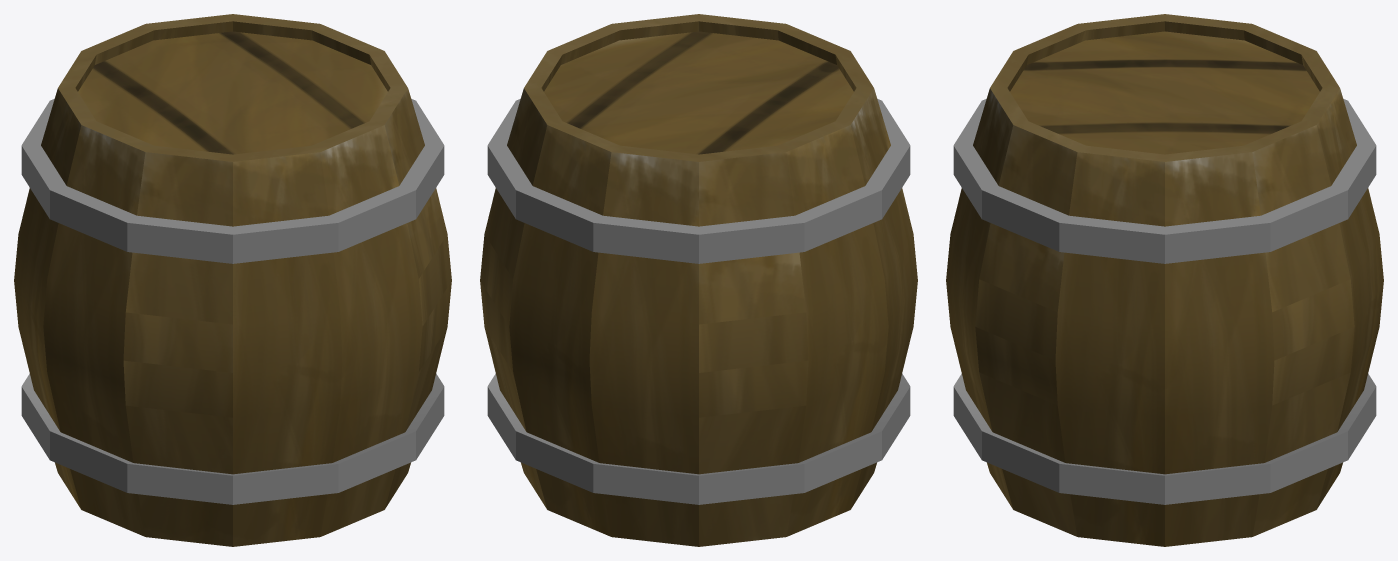
File: WoodenBarrel.fbx
The picture shows the model from 3 angles, left to right: view 1: azimuth 30°, elevation 25°; view 2: azimuth 150°, elevation 25°; view 3: azimuth 270°, elevation 25°; orthographic projection.
Parts seen in each view (by area): view 1: WoodenBarrel; view 2: WoodenBarrel; view 3: WoodenBarrel.
Part boxes in pixels (x1,y1,x2,y2): WoodenBarrel: (14, 14, 451, 546); WoodenBarrel: (480, 14, 917, 546); WoodenBarrel: (946, 14, 1383, 546).
Bounding box in the file's own units: 2.28 × 2.21 × 2.28.
